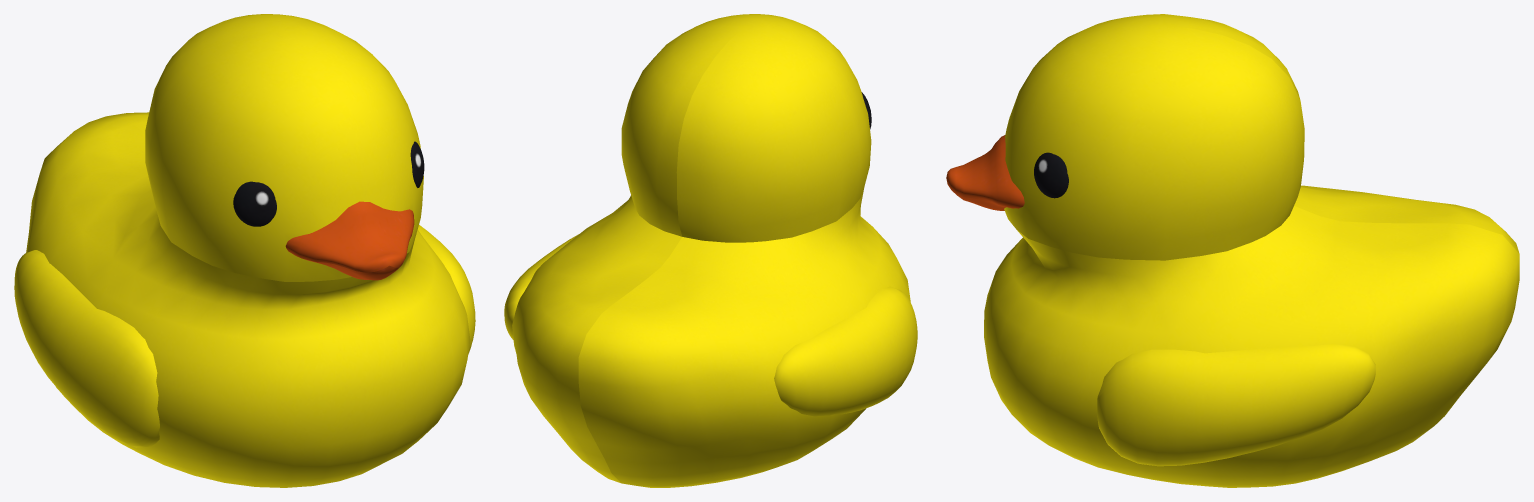
Rendered from duckbee.fbx.
The picture shows the model from 3 angles, left to right: view 1: azimuth 30°, elevation 25°; view 2: azimuth 150°, elevation 25°; view 3: azimuth 270°, elevation 25°; orthographic projection. The views are drawn at different scales.
Visible parts, largest first — view 1: Sphere001; view 2: Sphere001; view 3: Sphere001.
Boxes of the visible parts, x1,y1,x2,y2 form: Sphere001: (14, 14, 475, 487); Sphere001: (504, 14, 917, 487); Sphere001: (946, 14, 1519, 487).
Bounding box in the file's own units: 125 × 137 × 163.
